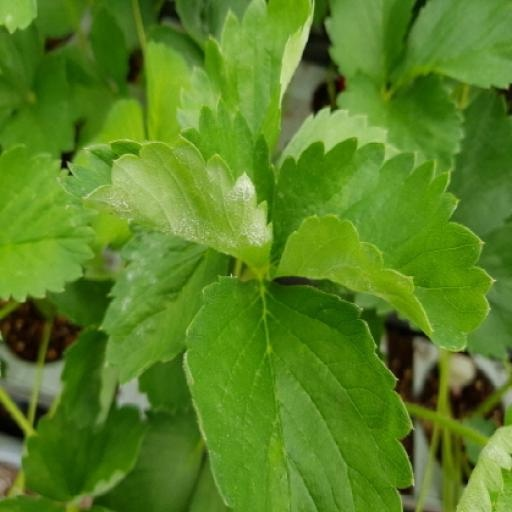Powdery Mildew Leaf: (234, 95, 457, 282), (280, 220, 412, 387), (197, 0, 336, 153), (0, 418, 57, 511)
